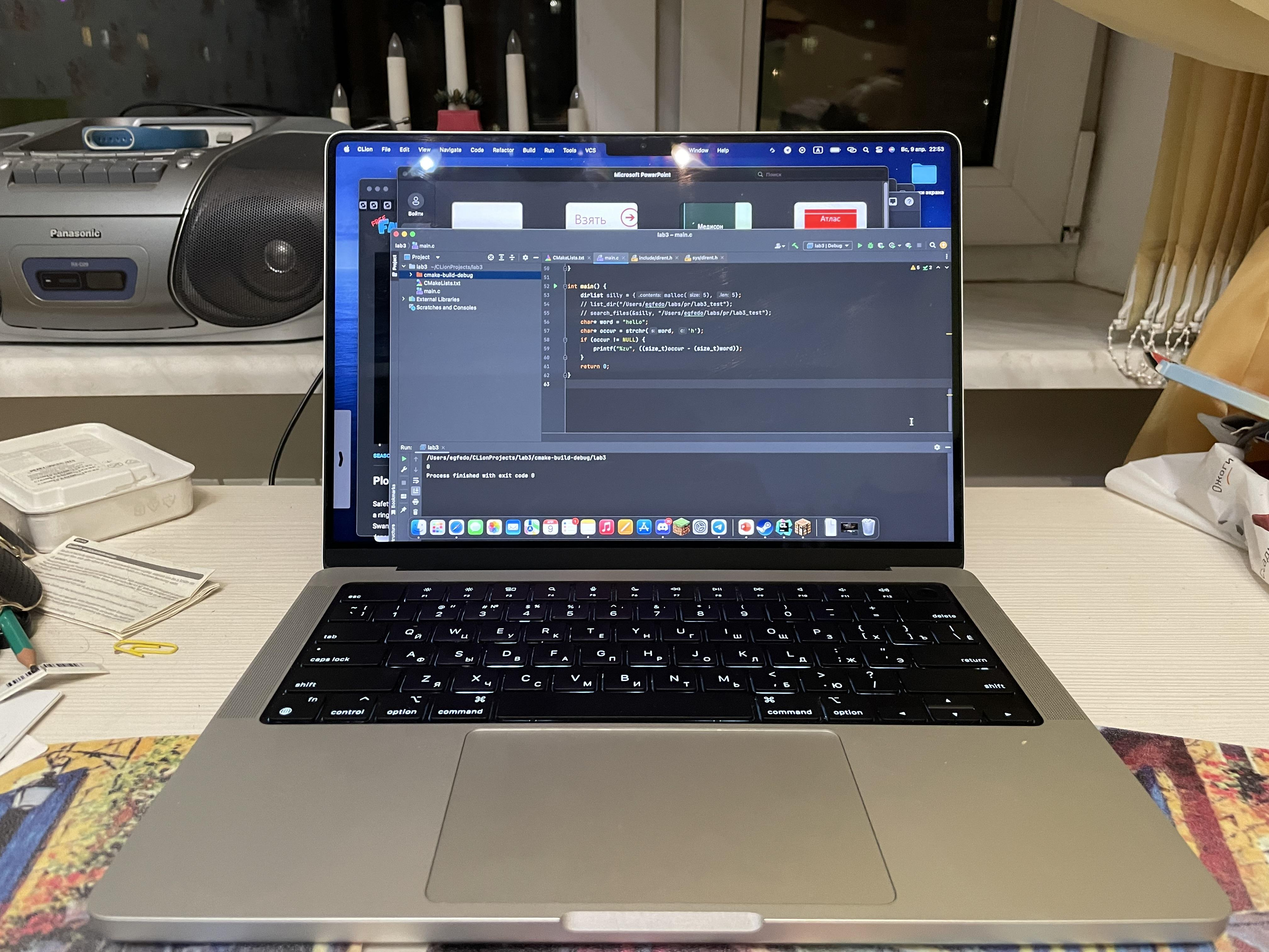monitor: (317, 127, 969, 571)
